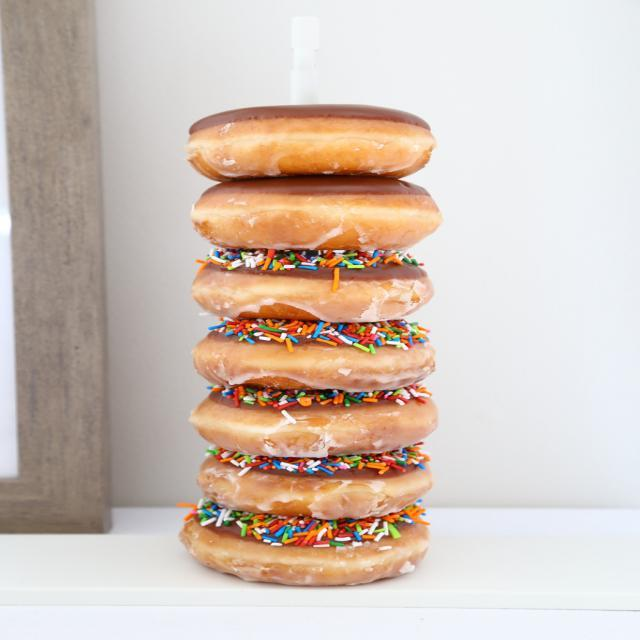Bread: (188, 173, 446, 255), (186, 248, 434, 324), (177, 516, 430, 586), (189, 320, 440, 389), (188, 390, 446, 457), (182, 96, 421, 167), (199, 456, 435, 523)
